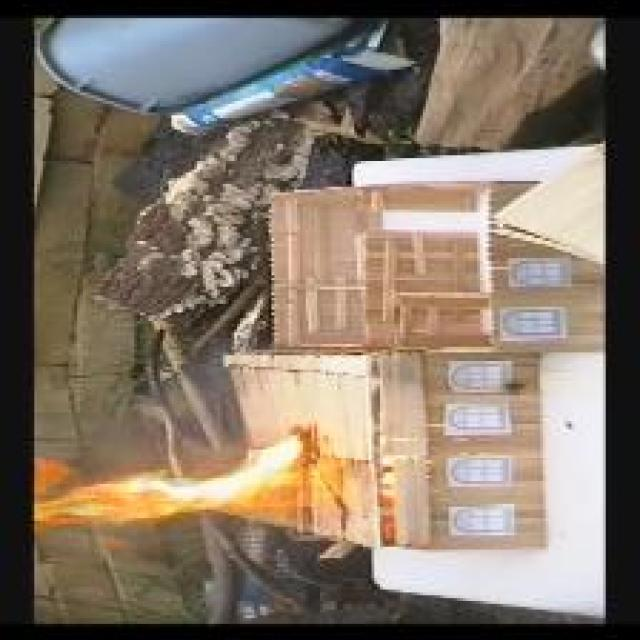Fire: (34, 434, 337, 534)
